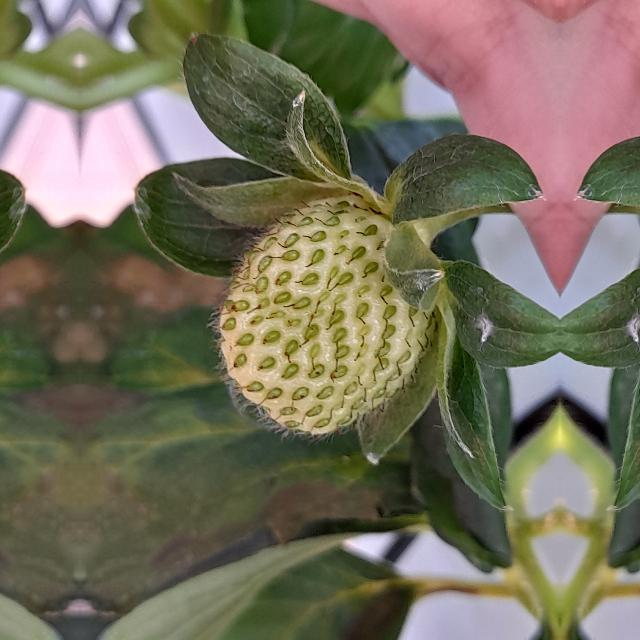Health_25: (206, 194, 438, 442)
